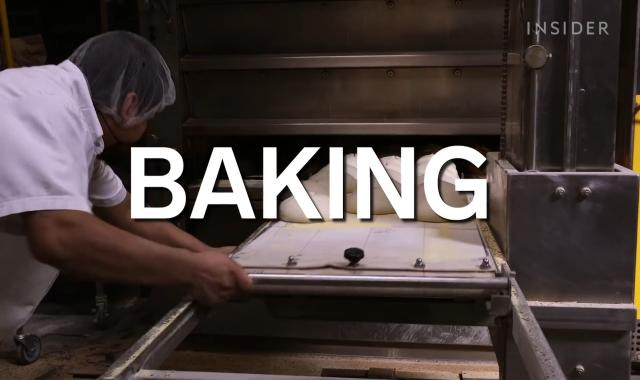hairnet: (67, 29, 177, 125)
